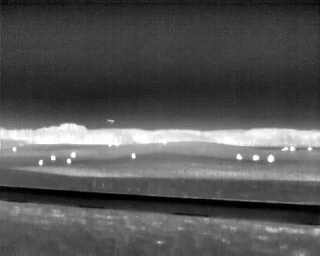AIRPLANE: (106, 116, 116, 125)
